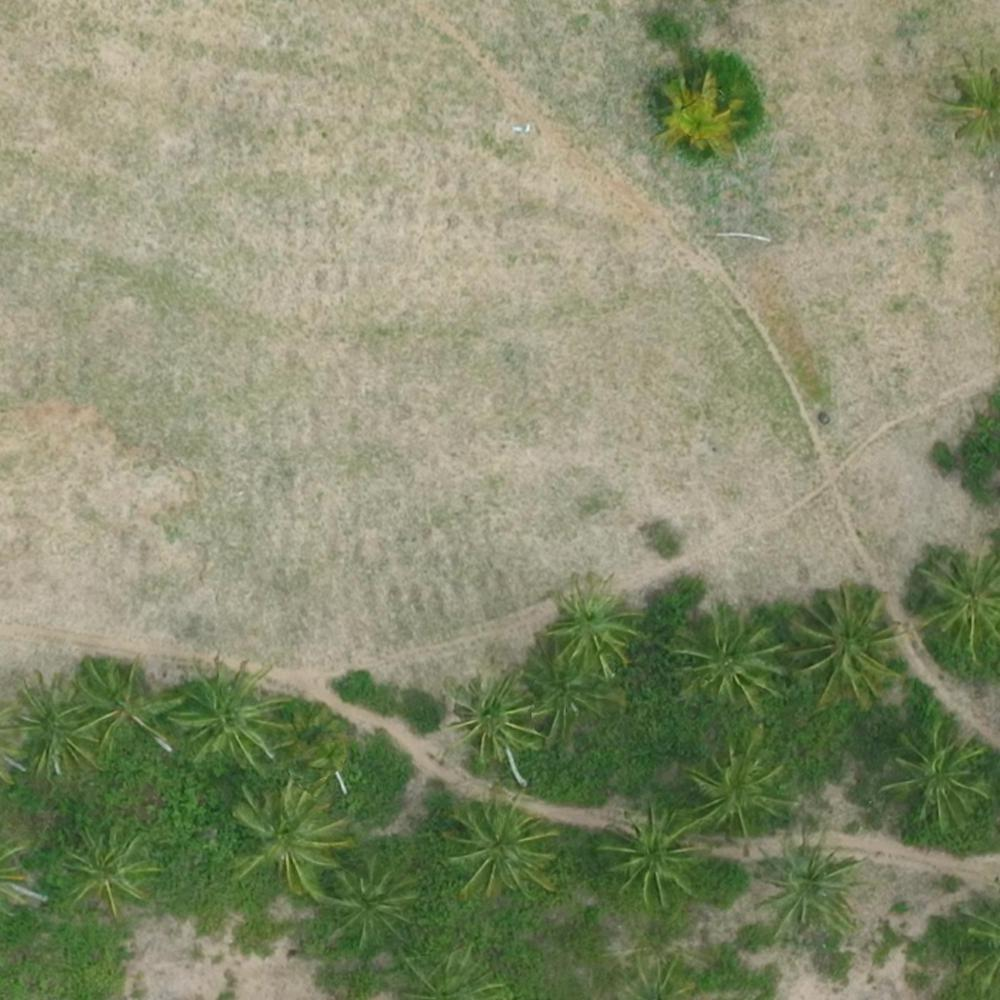Palm: (233, 780, 341, 890), (791, 593, 897, 693), (170, 662, 277, 760), (676, 610, 777, 707), (447, 802, 549, 896), (604, 806, 701, 901), (9, 674, 98, 775), (891, 729, 985, 823), (912, 551, 999, 650), (691, 736, 784, 825), (754, 838, 848, 925), (451, 676, 540, 767), (527, 652, 620, 739), (79, 664, 170, 750), (62, 826, 151, 911), (546, 580, 635, 664), (325, 868, 413, 949), (660, 73, 735, 159)
